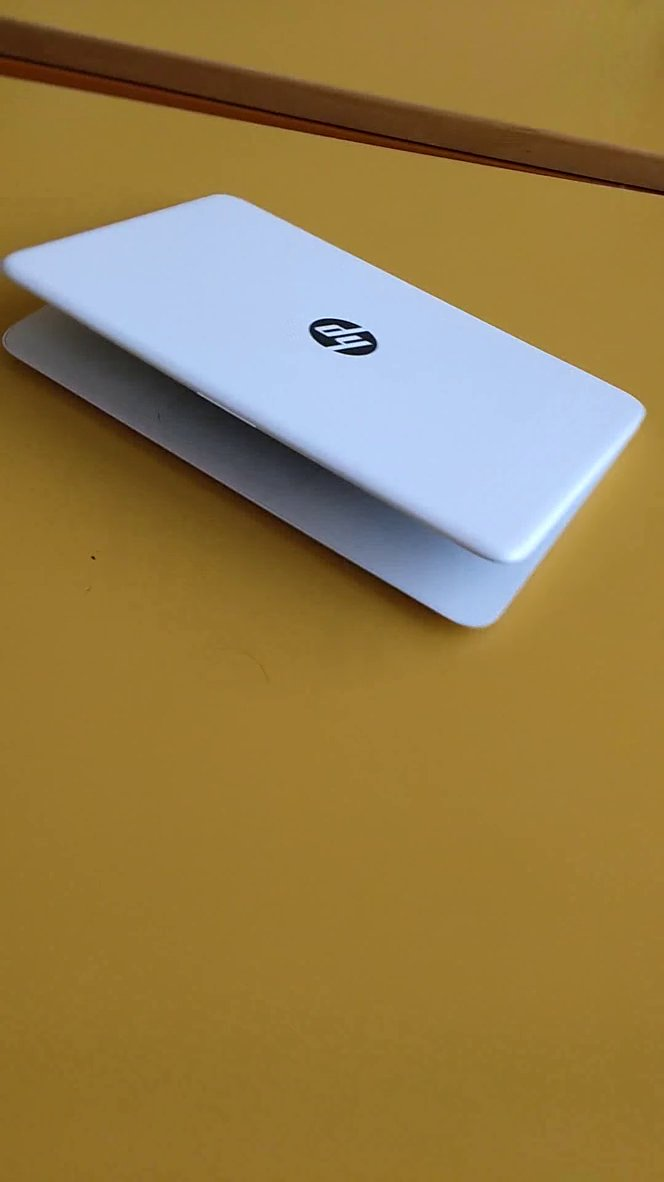laptop: (1, 163, 663, 661)
